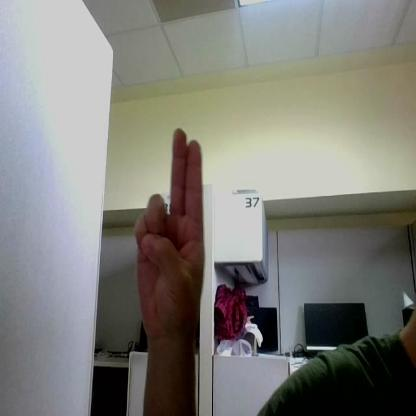U: (134, 129, 204, 331)
